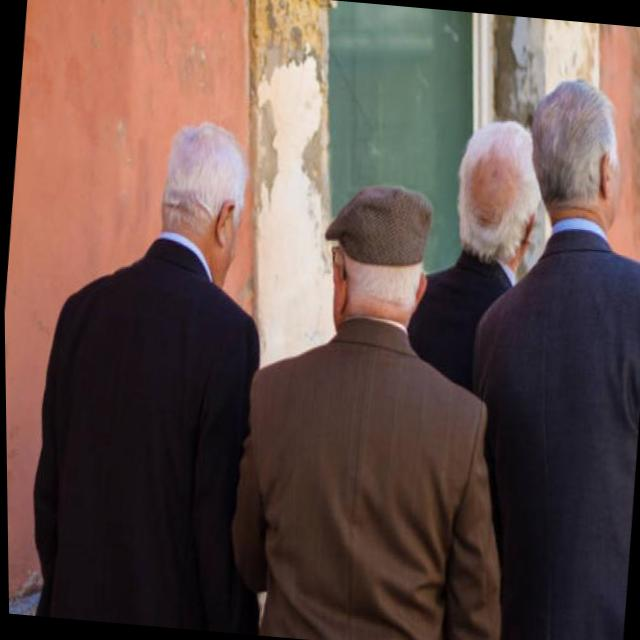no helmet: (308, 161, 447, 360)
